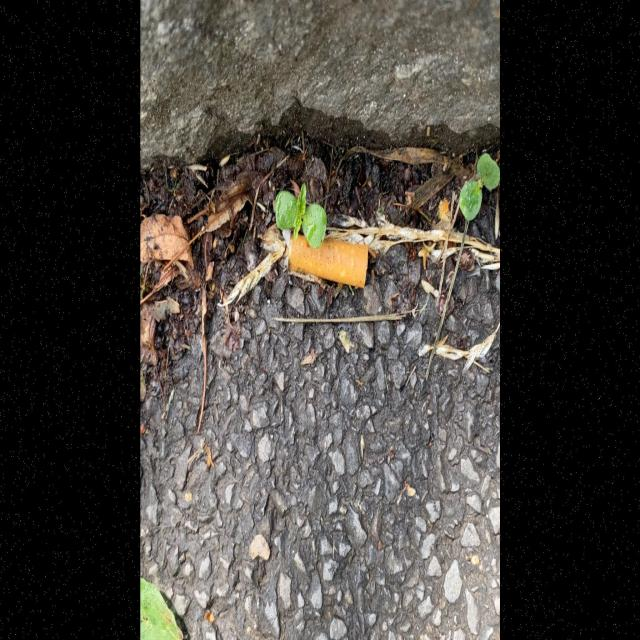other waste: (281, 228, 368, 289)
